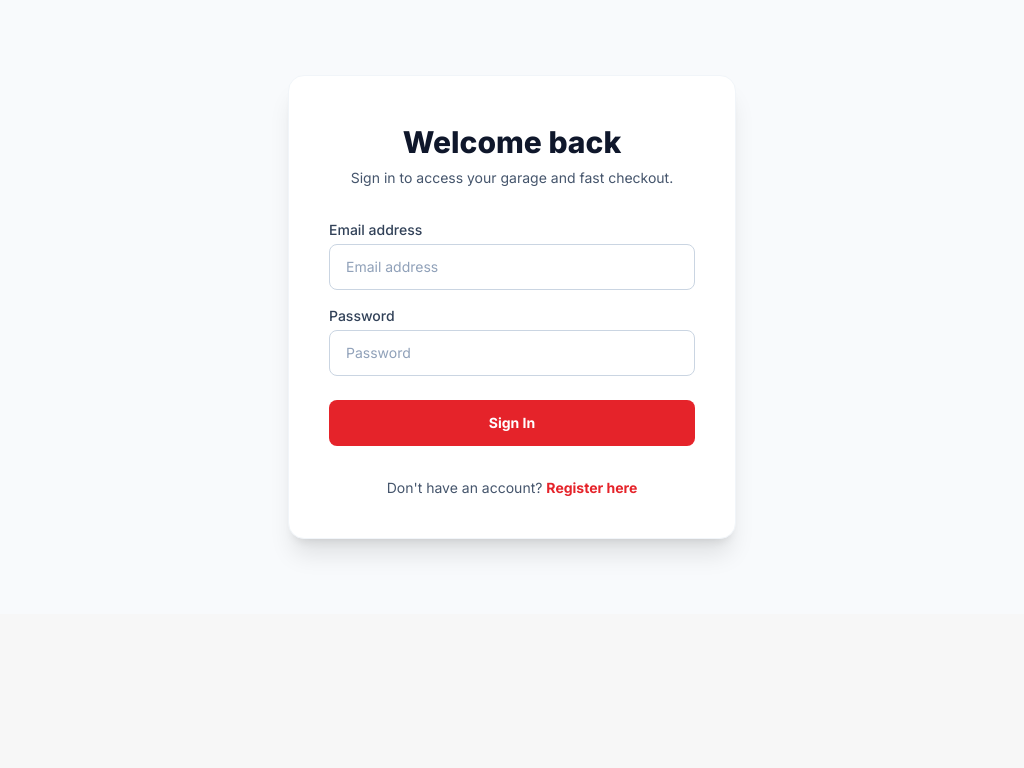
Test: Customer Login Component › displays error message on failed login
The width and height of the screenshot is (1024, 768).
Type "test@example.com" into the field with placeholder "Email address" at (512, 267), box [329,244,695,290]
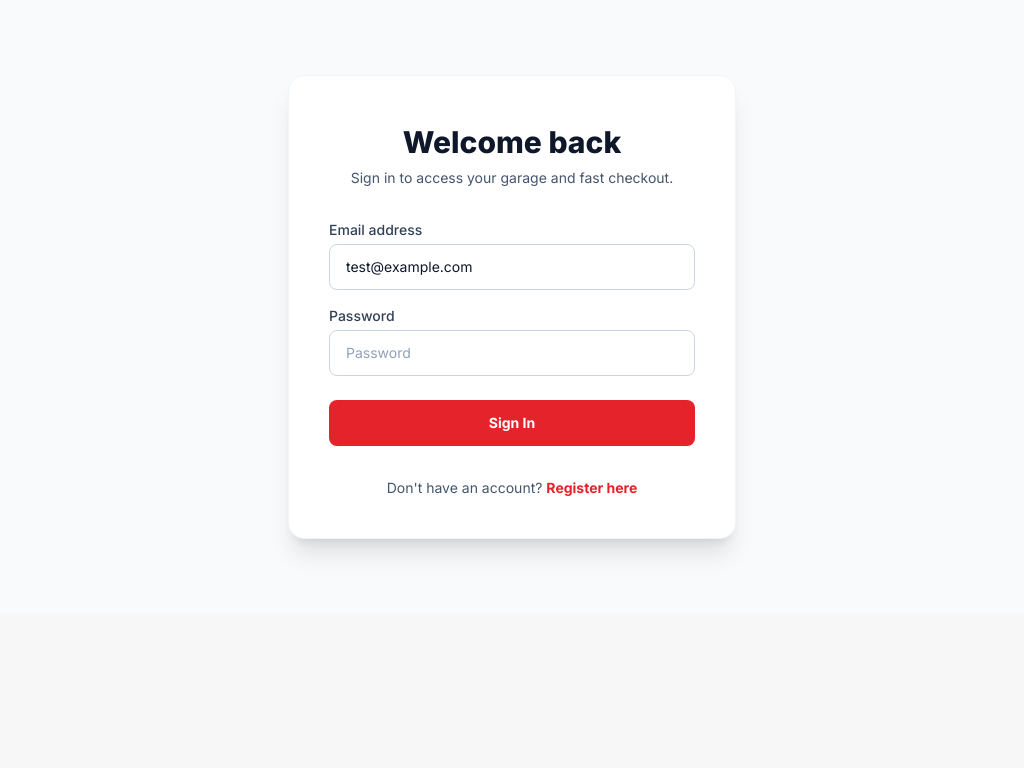
Type "wrongpass" into the password field with placeholder "Password" at (512, 353), box [329,330,695,376]
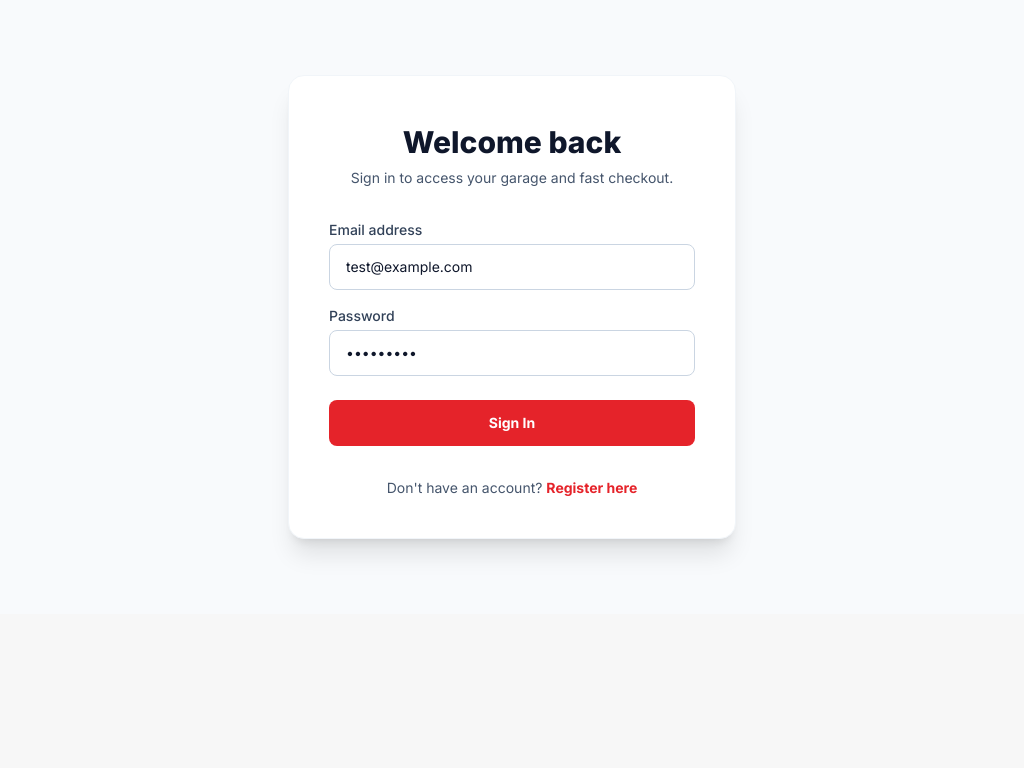
Click the button "Sign In" at (512, 423), box [329,400,695,446]
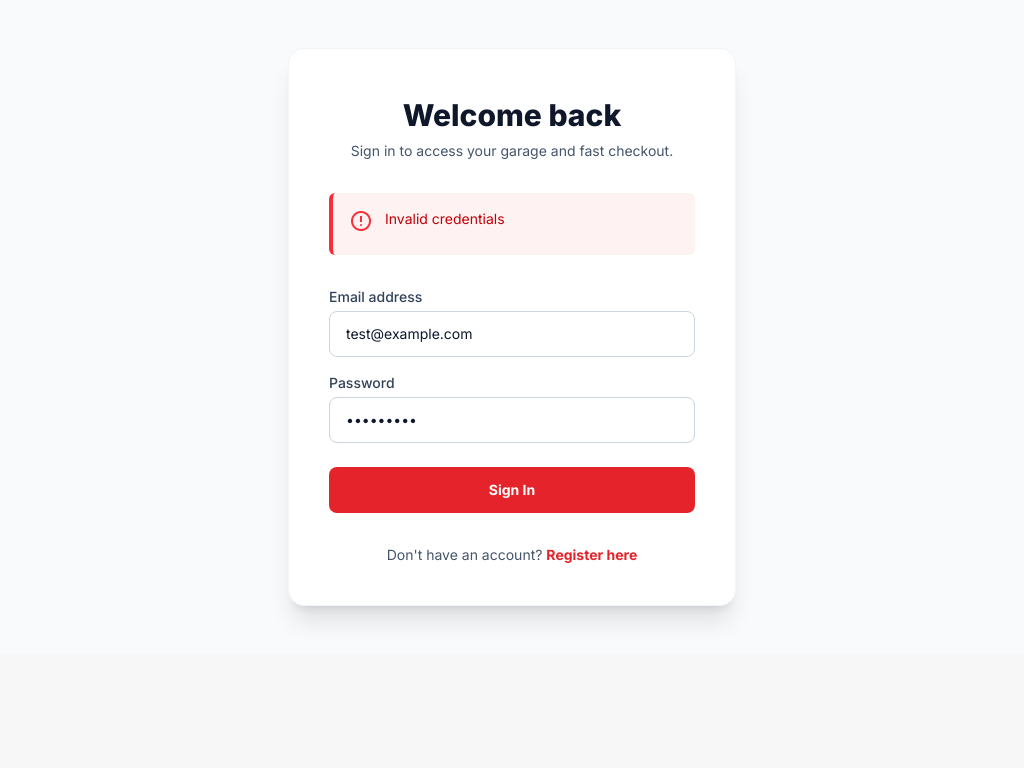
Expected: the text "Invalid credentials" is shown, [385,209,505,229]
